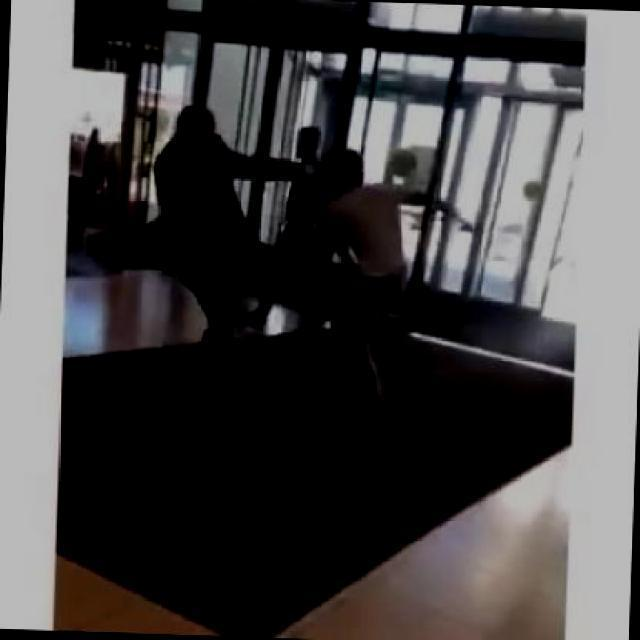fight: (132, 108, 431, 434)
